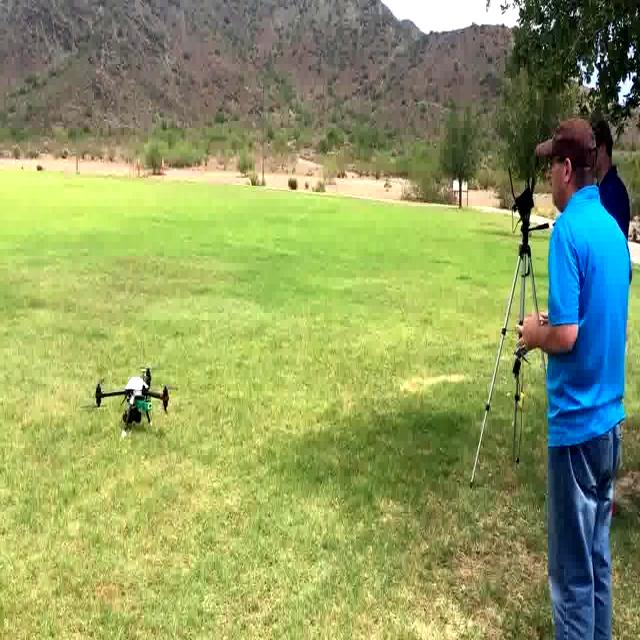drone: (94, 359, 174, 434)
